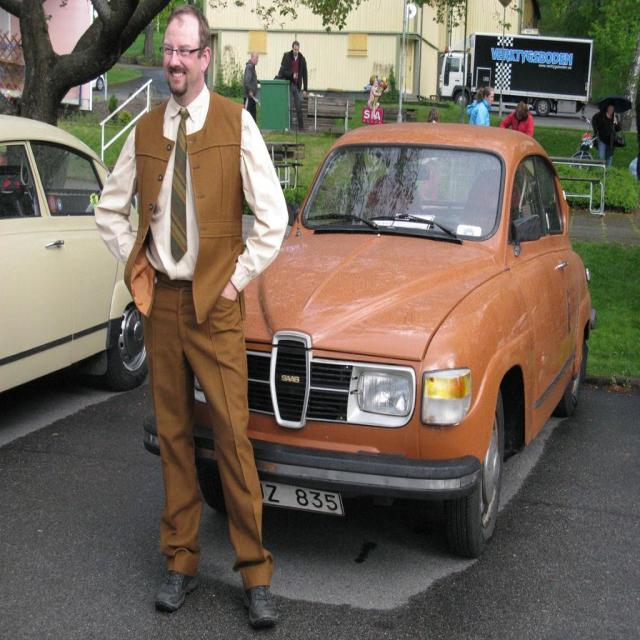car: (0, 120, 137, 417)
